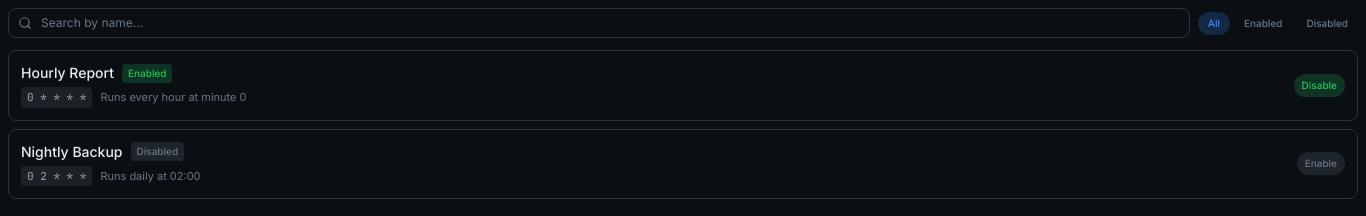
Test: ScheduleViewerPane › filters by search text
The image size is (1366, 216).
Expected: the text "Hourly Report" is shown, [21,63,114,83]
Type "Nightly" into the field with placeholder "Search by name…" at x=599, y=23, box [8,8,1190,38]
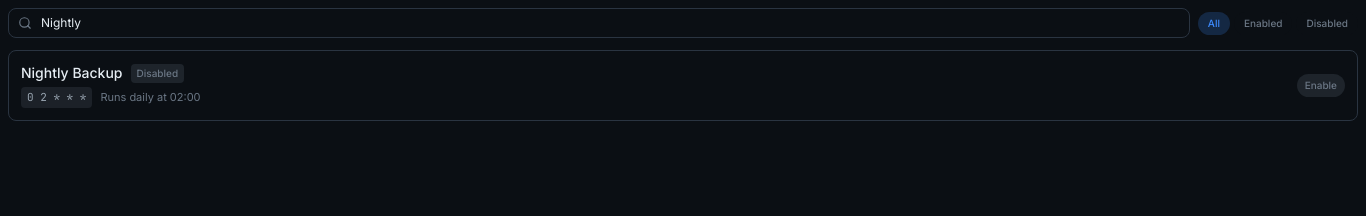
Expected: the text "Nightly Backup" is shown, [21,63,122,83]
Expected: the text "Hourly Report" is gone
